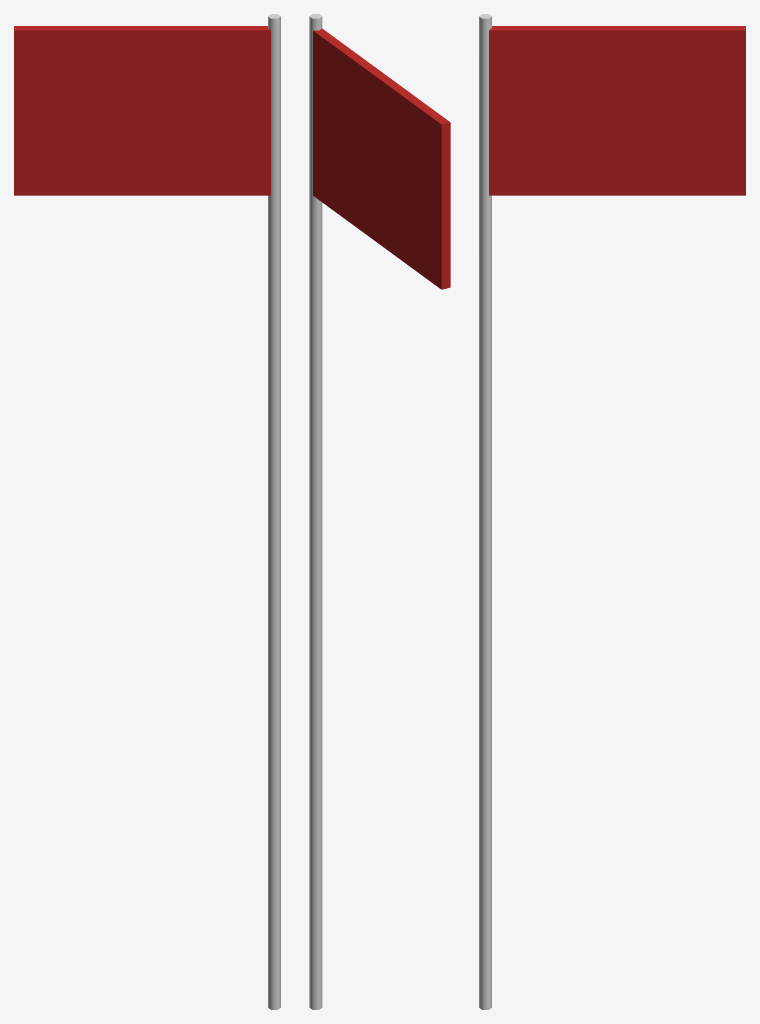
Rendered from tf_golf_flag_2p1.glb.
The picture shows the model from 3 angles, left to right: view 1: azimuth 90°, elevation 25°; view 2: azimuth 210°, elevation 25°; view 3: azimuth 270°, elevation 25°; orthographic projection.
Visible parts, largest first — view 1: tf_golf_flag_2p1; view 2: tf_golf_flag_2p1; view 3: tf_golf_flag_2p1.
Boxes of the visible parts, left/top/right/bottom form: tf_golf_flag_2p1: left=14, top=14, right=280, bottom=1009; tf_golf_flag_2p1: left=309, top=14, right=450, bottom=1009; tf_golf_flag_2p1: left=479, top=14, right=745, bottom=1009.
Size of the model in its own units: 0.0217 by 2.1 by 0.5125.
